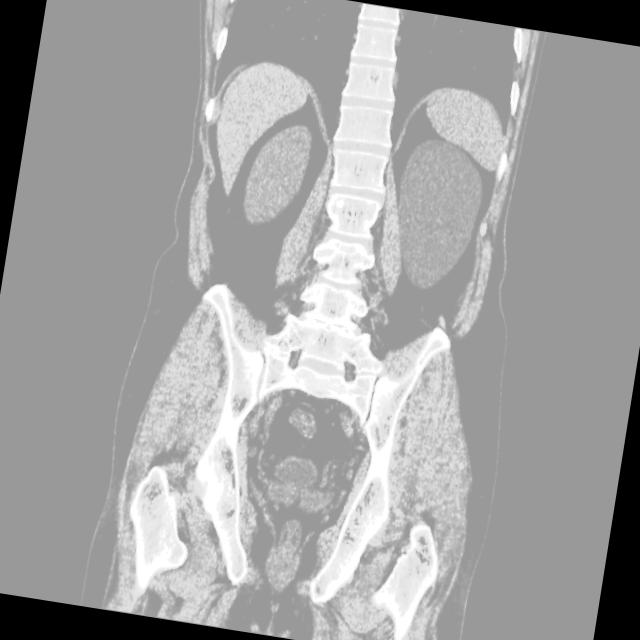cysts: (83, 0, 558, 640)
